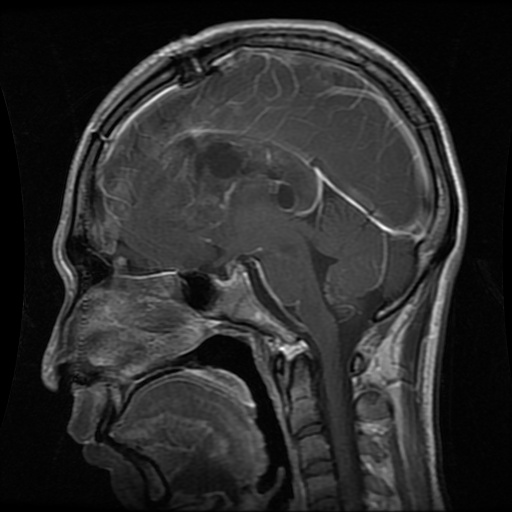glioma: (175, 132, 301, 212)
